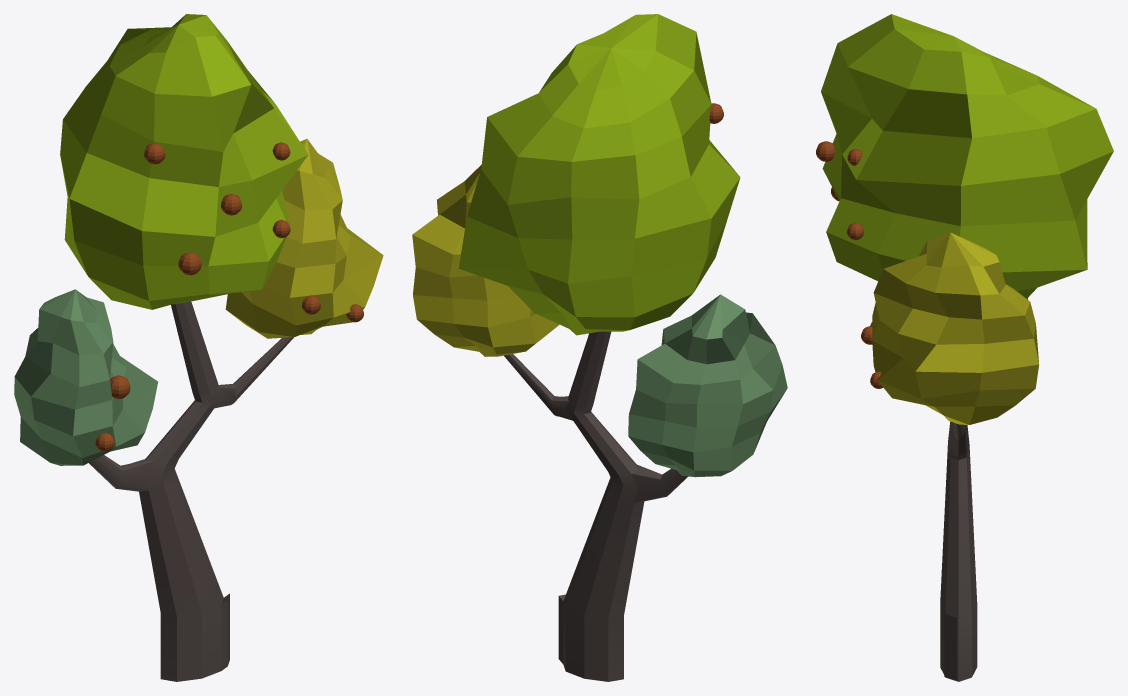
Rendered from tree008.fbx.
3 views of the same model, side by side, from view 1: azimuth 30°, elevation 25°; view 2: azimuth 150°, elevation 25°; view 3: azimuth 270°, elevation 25° (orthographic). The views are drawn at different scales.
Parts seen in each view (by area): view 1: tree008; view 2: tree008; view 3: tree008.
Boxes of the visible parts, <box> form: tree008: <box>14,14,383,681</box>; tree008: <box>412,14,787,681</box>; tree008: <box>816,14,1113,681</box>.
Bounding box in the file's own units: 14.3 × 11.26 × 26.61.
